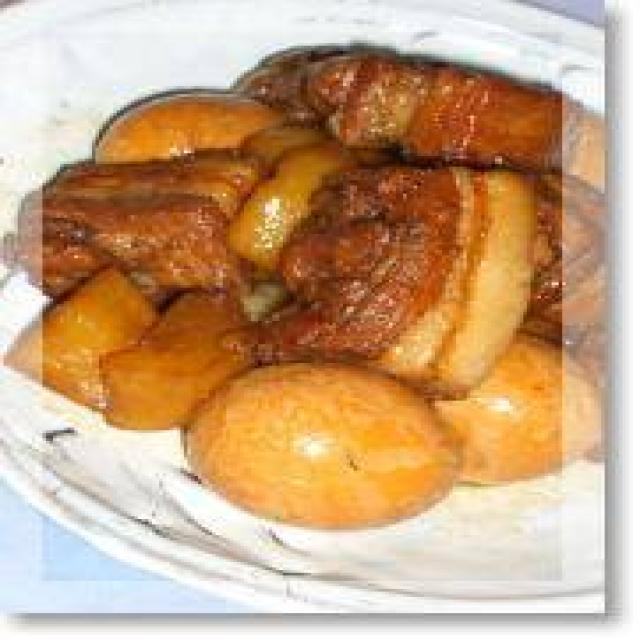猪肉菜式: (46, 14, 548, 532)
